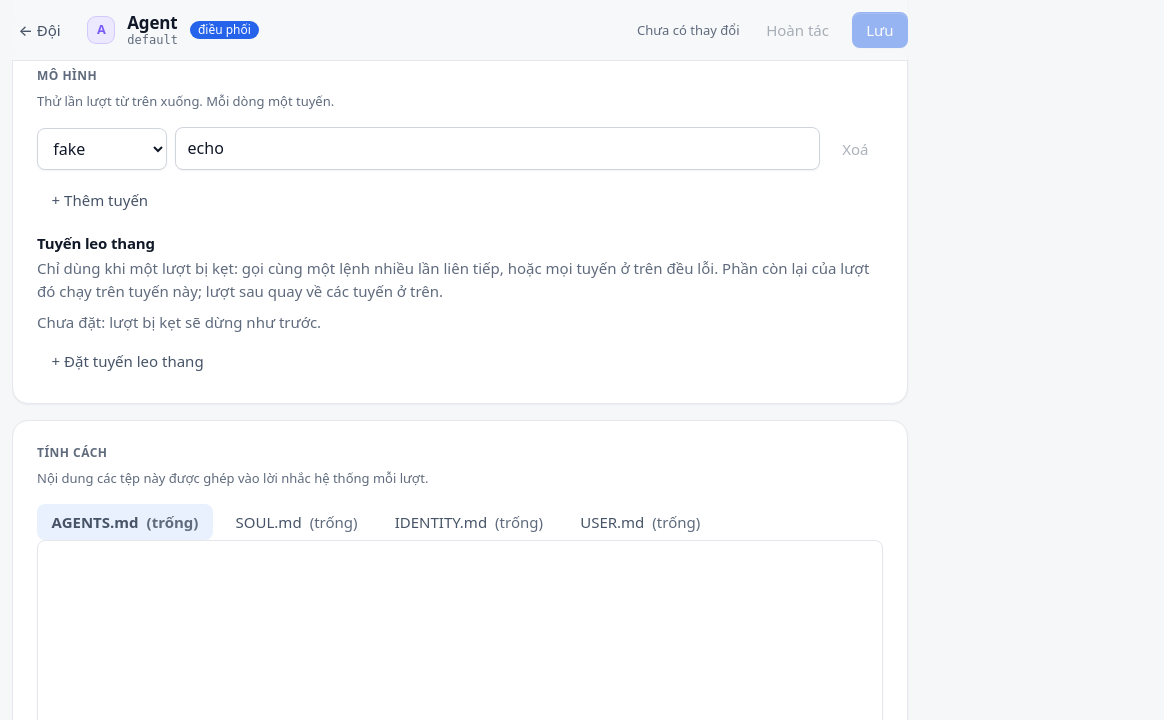
Test: the escalation route of an agent that names none › is set by adding a row on a real provider, typing the model and saving
(page scrolled)
Click the button "+ Đặt tuyến leo thang" at (128, 361), box x1=37 y1=343 x2=218 y2=379
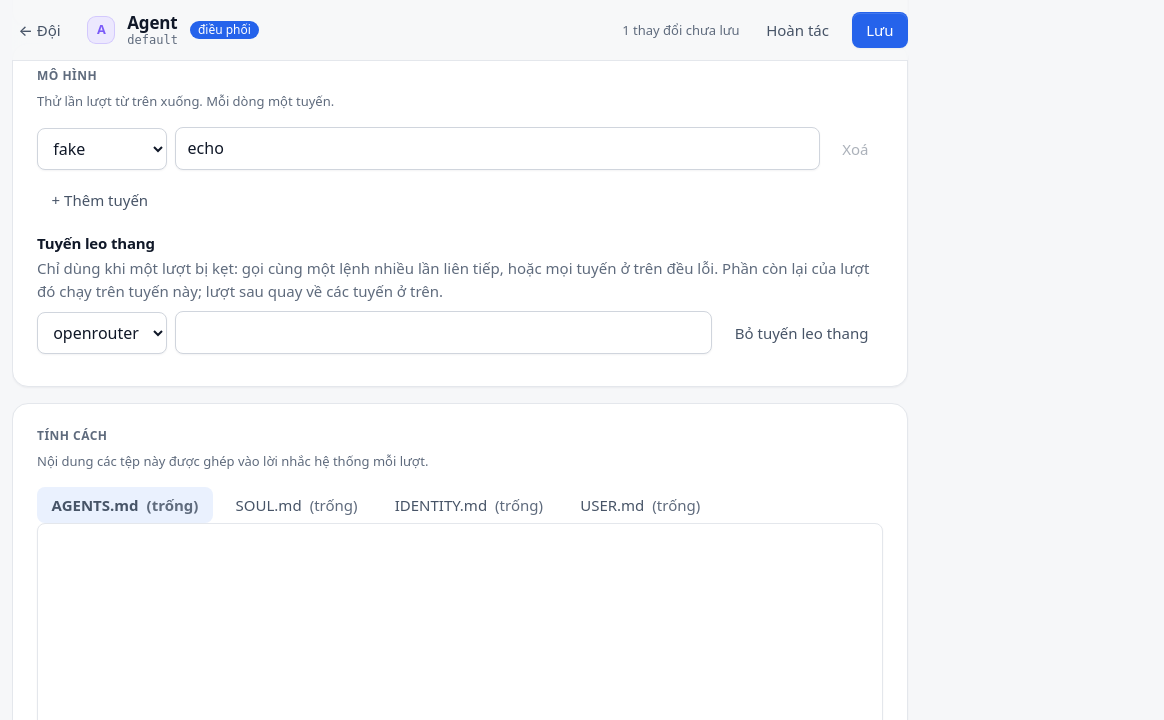
Result: the text with test id "escalation-route-none" is gone
Type "big" into the field named "Tuyến leo thang: Mô hình" at (444, 333), box x1=175 y1=311 x2=712 y2=354
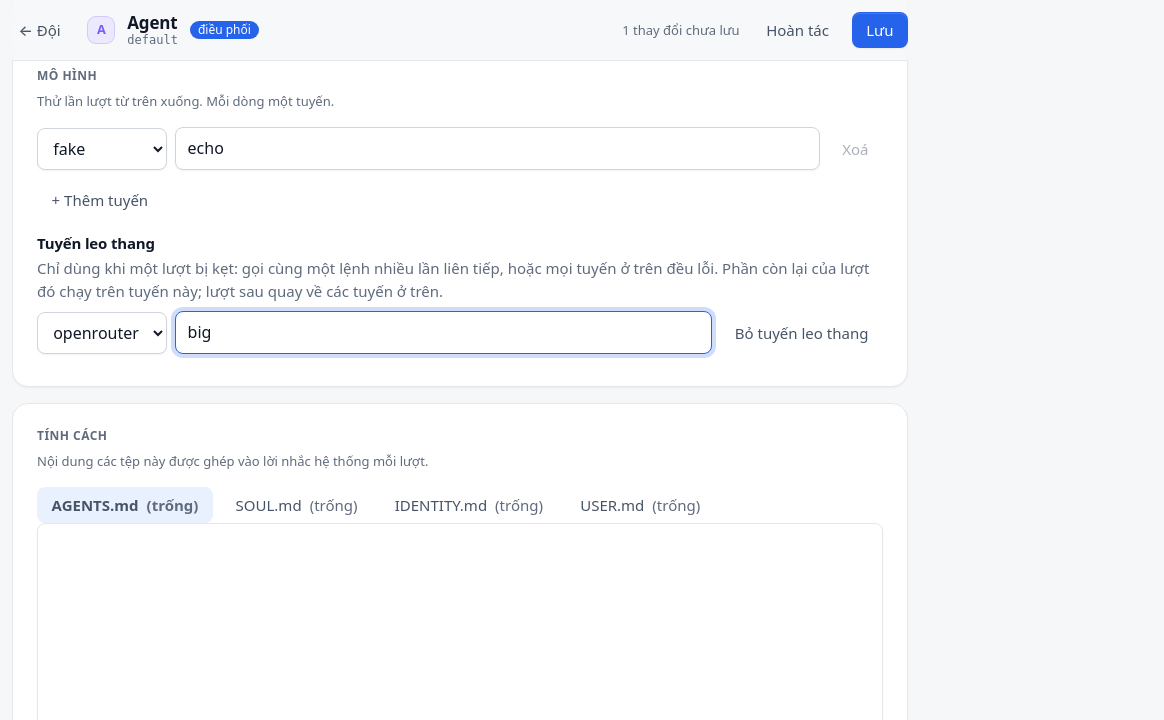
Click the button "Lưu" at (880, 30), box x1=852 y1=12 x2=908 y2=48
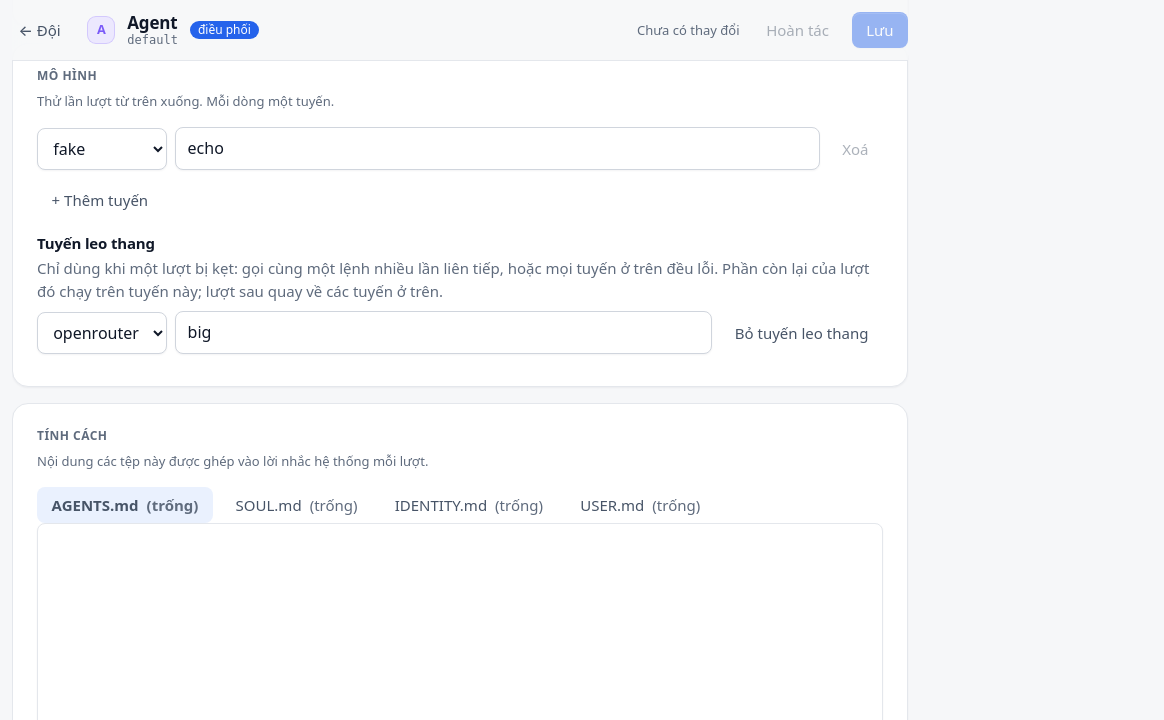
Result: the text "Chưa có thay đổi" is shown at x1=637 y1=20 x2=740 y2=40
